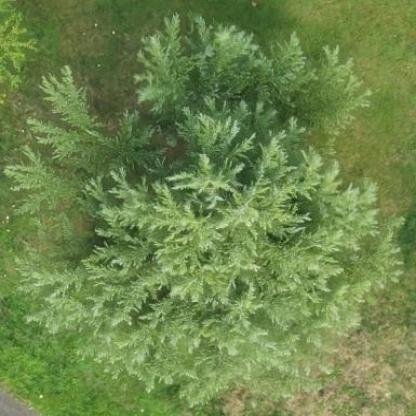Coniferous Tree: (6, 25, 401, 386)
